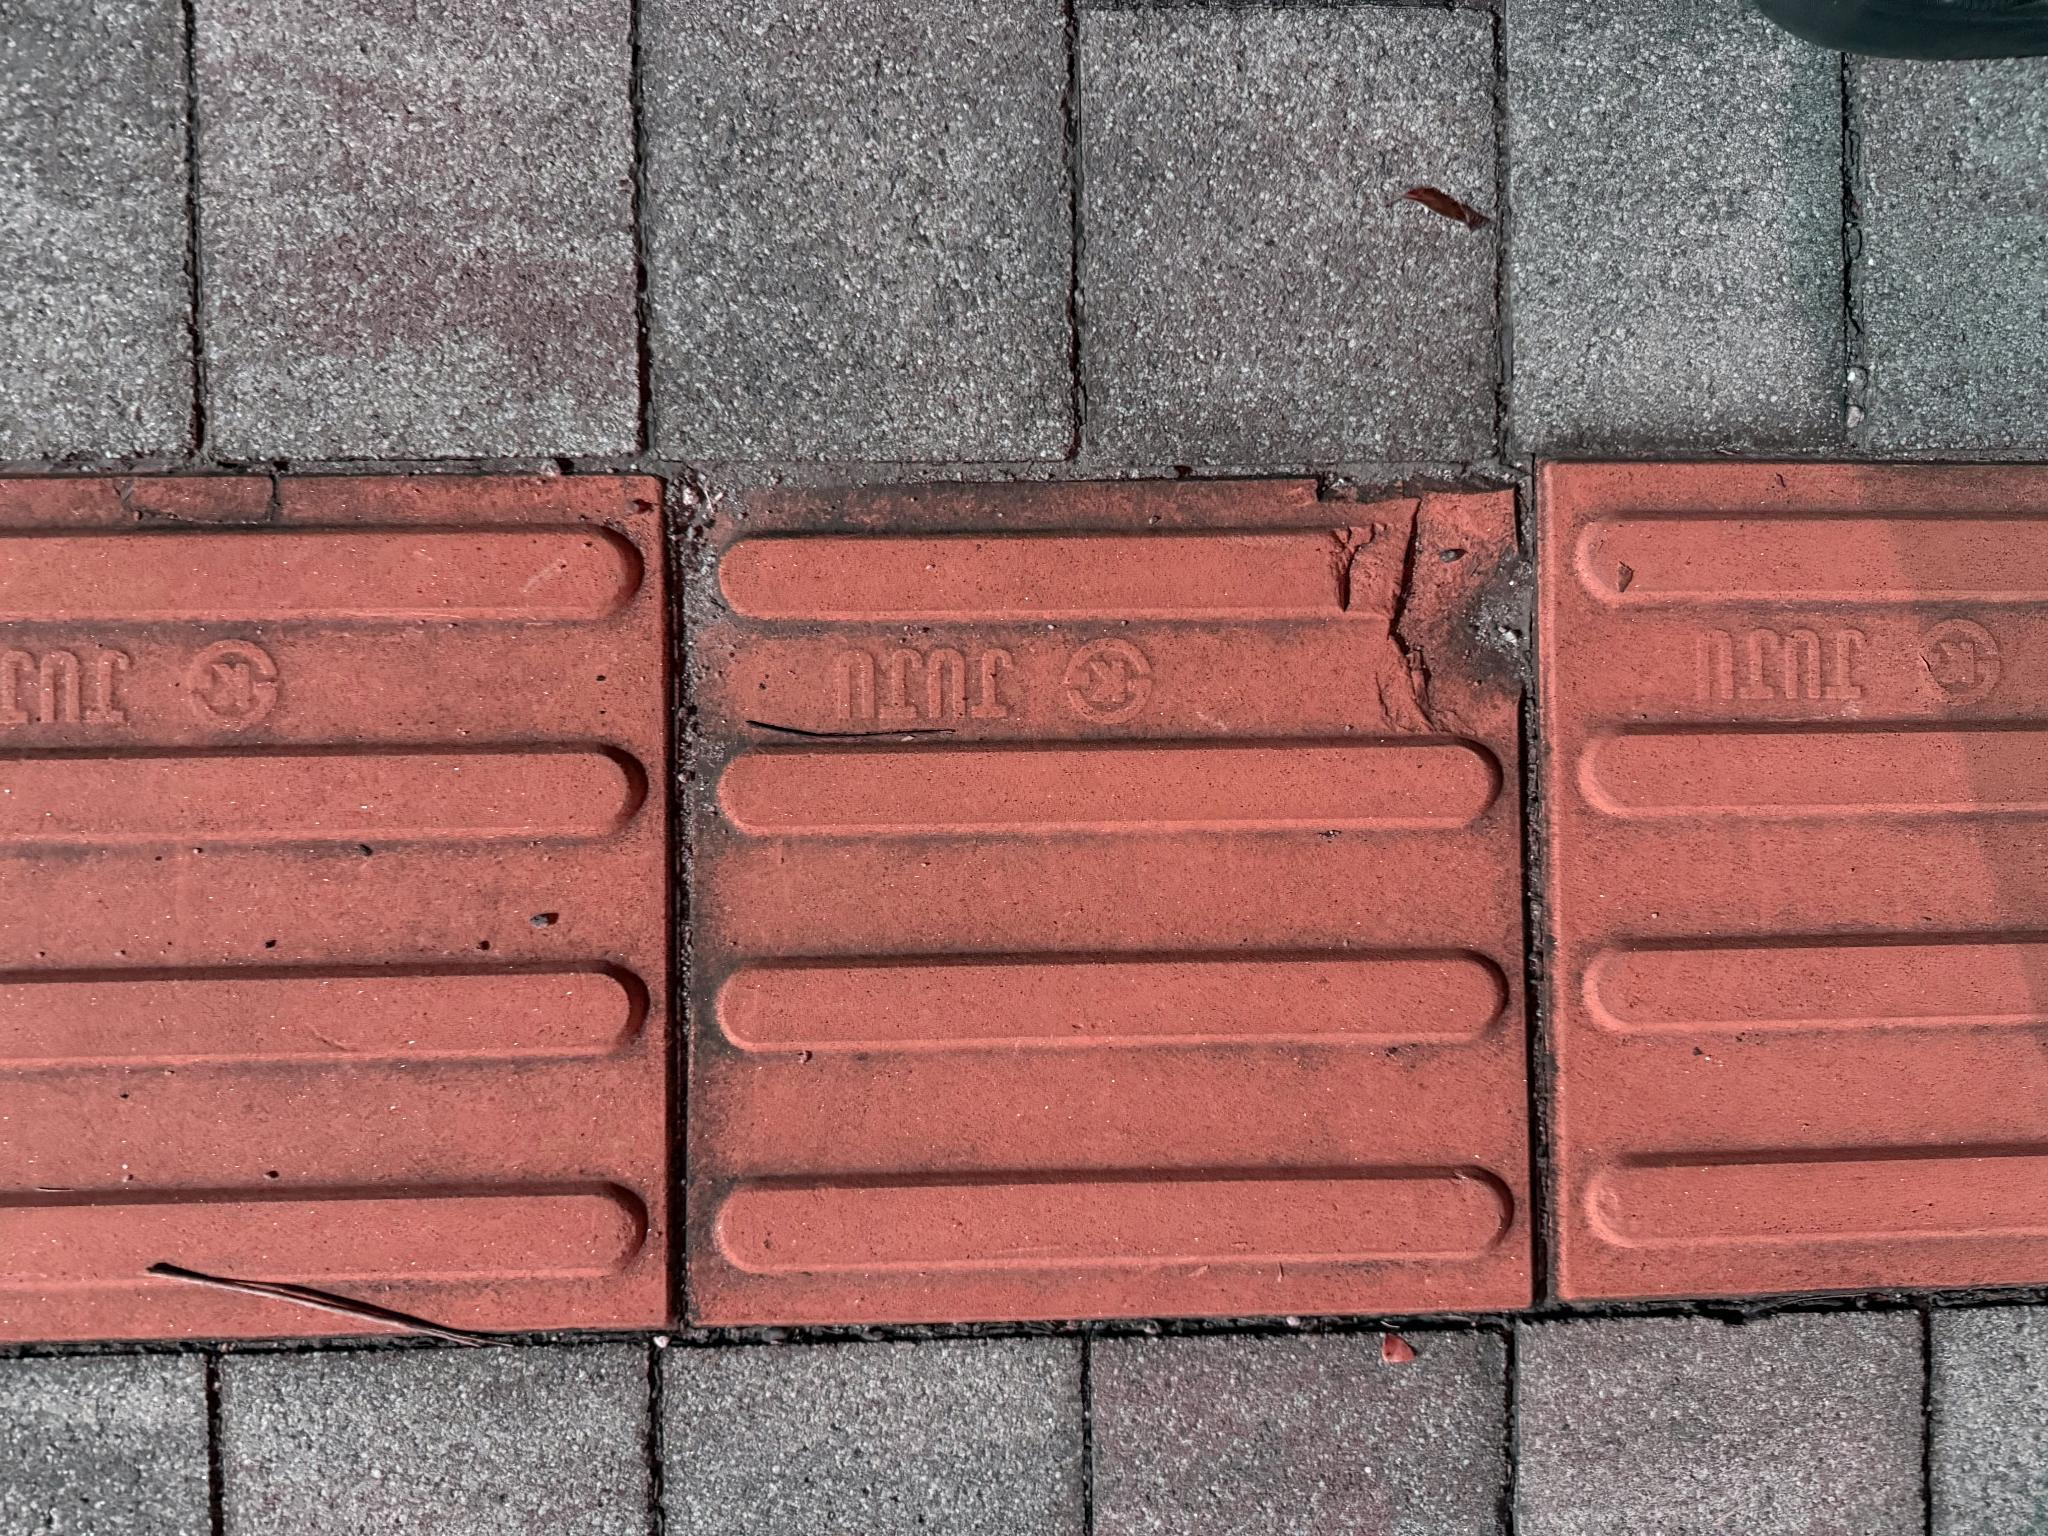Straight block broken: (219, 687, 1050, 1525)
